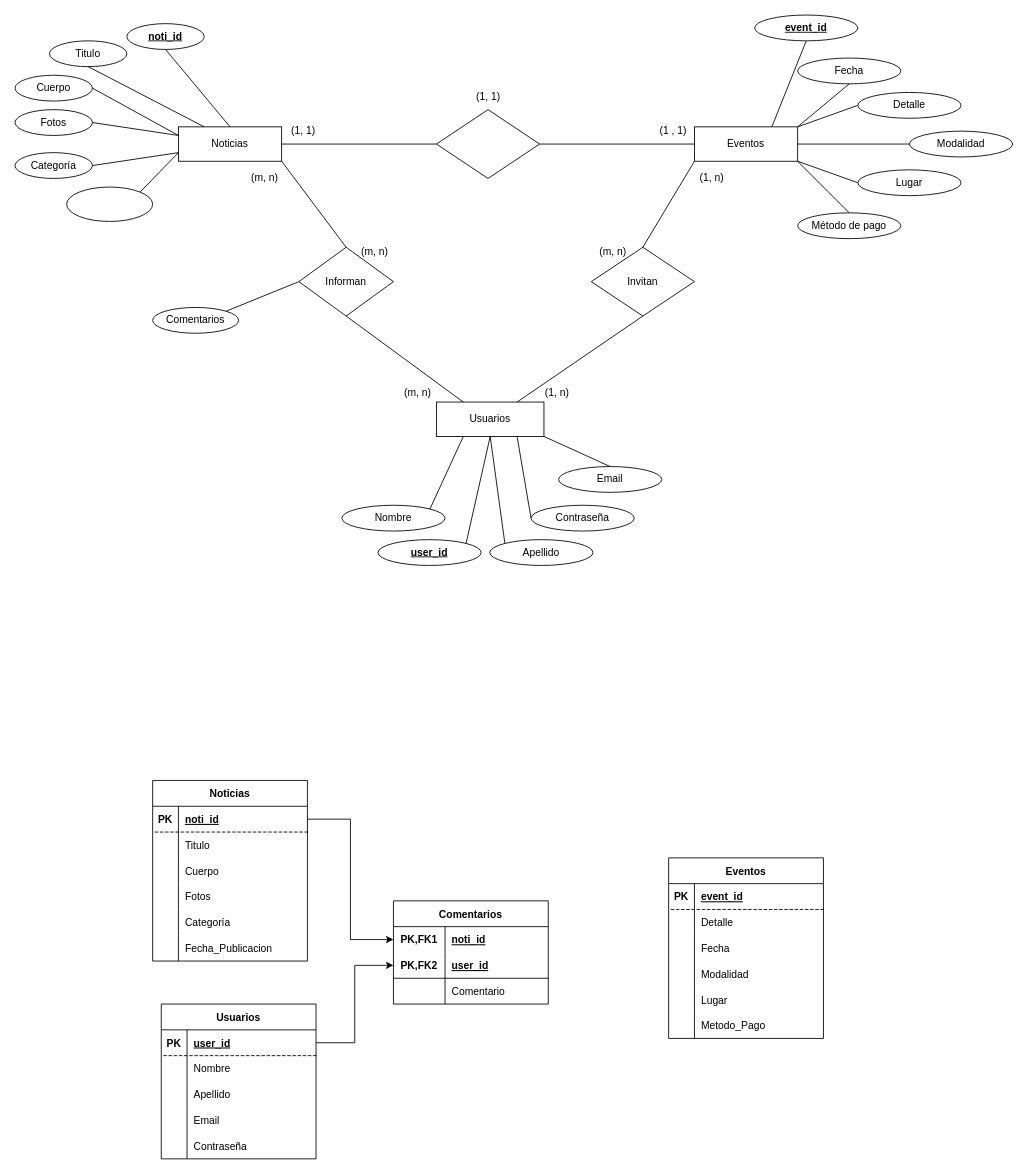
Some shapes in this 1028 by 1174 pixel diagram are drawn without their labels. Here are the shapes that lost their labels. From the top down, the centre of each, then its label:
point (488, 143): Publicita
point (109, 203): Fecha de Publicación
